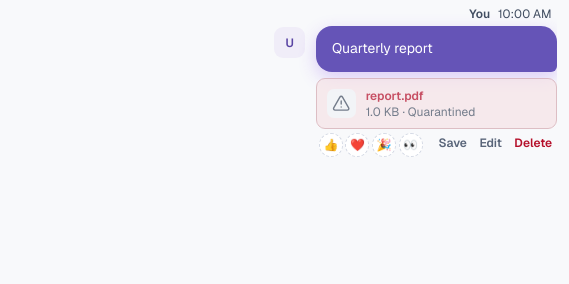
Scenario: MessageItem › keeps saving an edit distinct from saving a message to the private list
Click the button "Edit" at (491, 143), box [475,131,507,155]
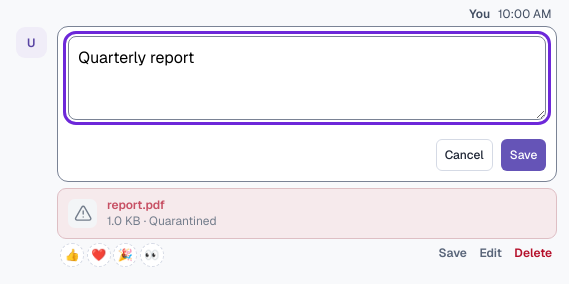
Replace the text in the text box named "Edit message" with "Revised quarterly report" at (307, 78), box [68,36,546,120]
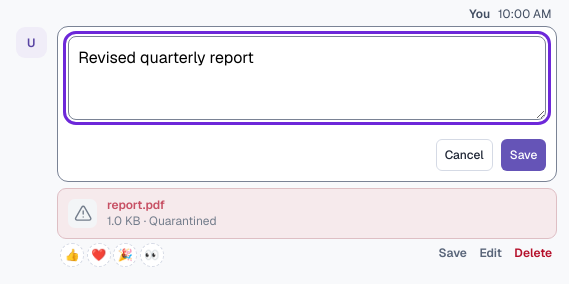
Click the 1st button "Save" at (524, 155), box [501,139,546,171]
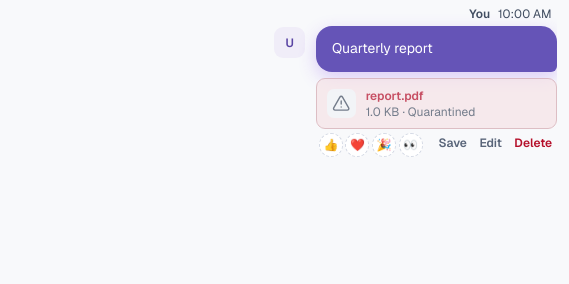
Expected: the field labelled "Edit message" is not shown
Click the button with aria-label "Save message" at (453, 143), box [434,131,472,155]
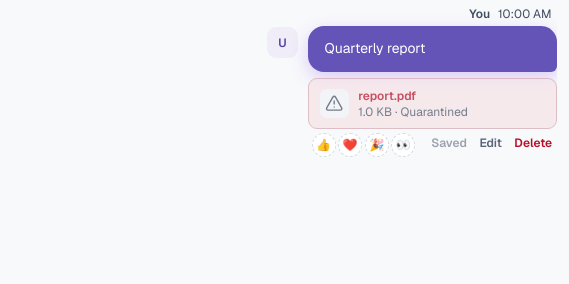
Expected: the button with aria-label "Message saved" is disabled, [426,131,472,155]
